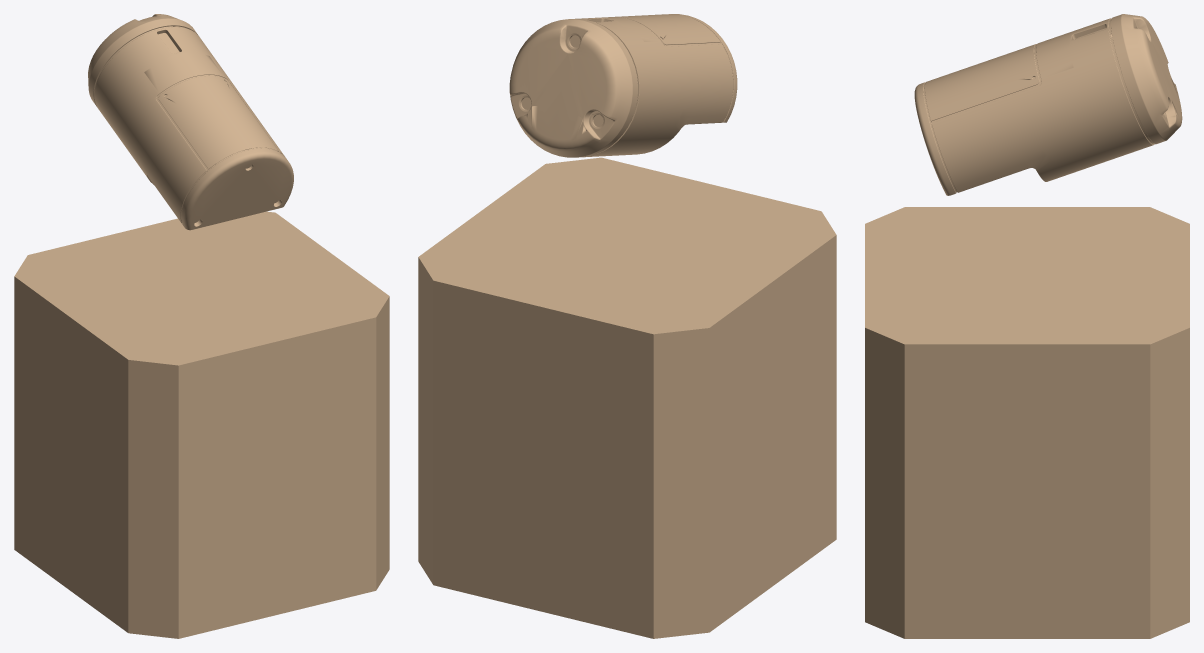
File: shooter1.fbx
The picture shows the model from 3 angles, left to right: view 1: azimuth 30°, elevation 25°; view 2: azimuth 150°, elevation 25°; view 3: azimuth 270°, elevation 25°; orthographic projection. The views are drawn at different scales.
Visible parts, largest first — view 1: shooter1; view 2: shooter1; view 3: shooter1.
Part boxes in pixels (x1,y1,x2,y2): shooter1: (14, 14, 389, 638); shooter1: (418, 14, 836, 638); shooter1: (865, 14, 1189, 638).
Bounding box in the file's own units: 78.74 × 146 × 78.74.
